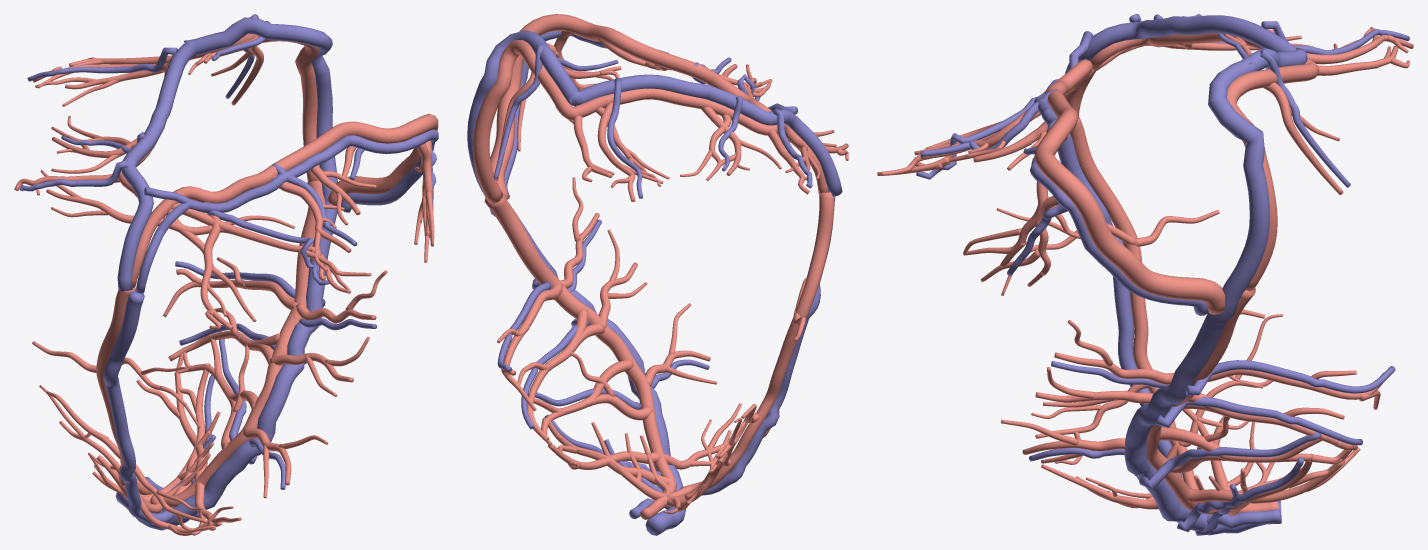
Rendered from vessels_32.glb.
3 renders of one model, left to right at view 1: azimuth 30°, elevation 25°; view 2: azimuth 150°, elevation 25°; view 3: azimuth 270°, elevation 25°, orthographic. The views are drawn at different scales.
Visible parts, largest first — view 1: Renderer Node; view 2: Renderer Node; view 3: Renderer Node.
Boxes of the visible parts, x1,y1,x2,y2 form: Renderer Node: (14,14,438,535); Renderer Node: (467,14,848,535); Renderer Node: (877,14,1413,535).
Size of the model in its own units: 88.94 by 110 by 97.08.
